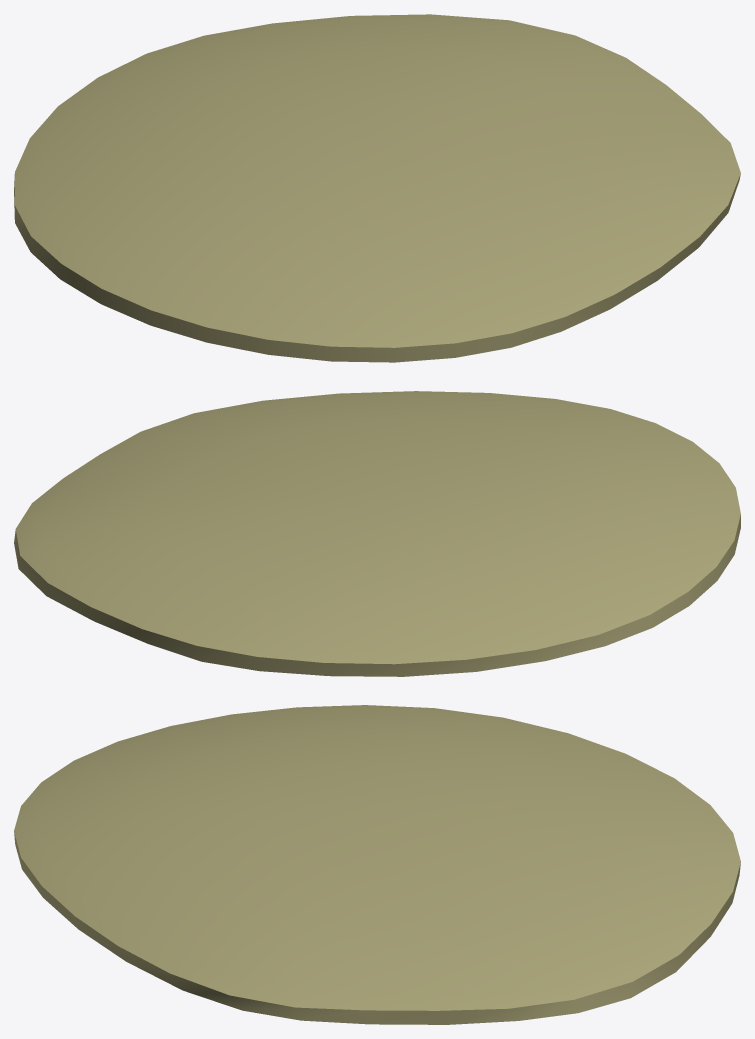
The model's file is path_stone.glb.
3 views of the same model, one above another, from view 1: azimuth 30°, elevation 25°; view 2: azimuth 150°, elevation 25°; view 3: azimuth 270°, elevation 25° (orthographic). The views are drawn at different scales.
Parts seen in each view (by area): view 1: Sphere; view 2: Sphere; view 3: Sphere.
Part boxes in pixels (x1=…): Sphere: x1=14, y1=14, x2=740, y2=362; Sphere: x1=14, y1=391, x2=740, y2=676; Sphere: x1=14, y1=705, x2=740, y2=1024.
Bounding box in the file's own units: 0.2091 × 0.0167 × 0.2135.
Materials: 1 (1 with a texture image).
